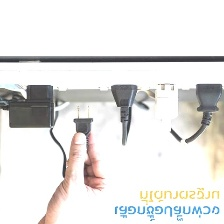three_eye_plug: (0, 57, 224, 92)
